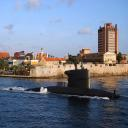submarine: (10, 57, 124, 101)
